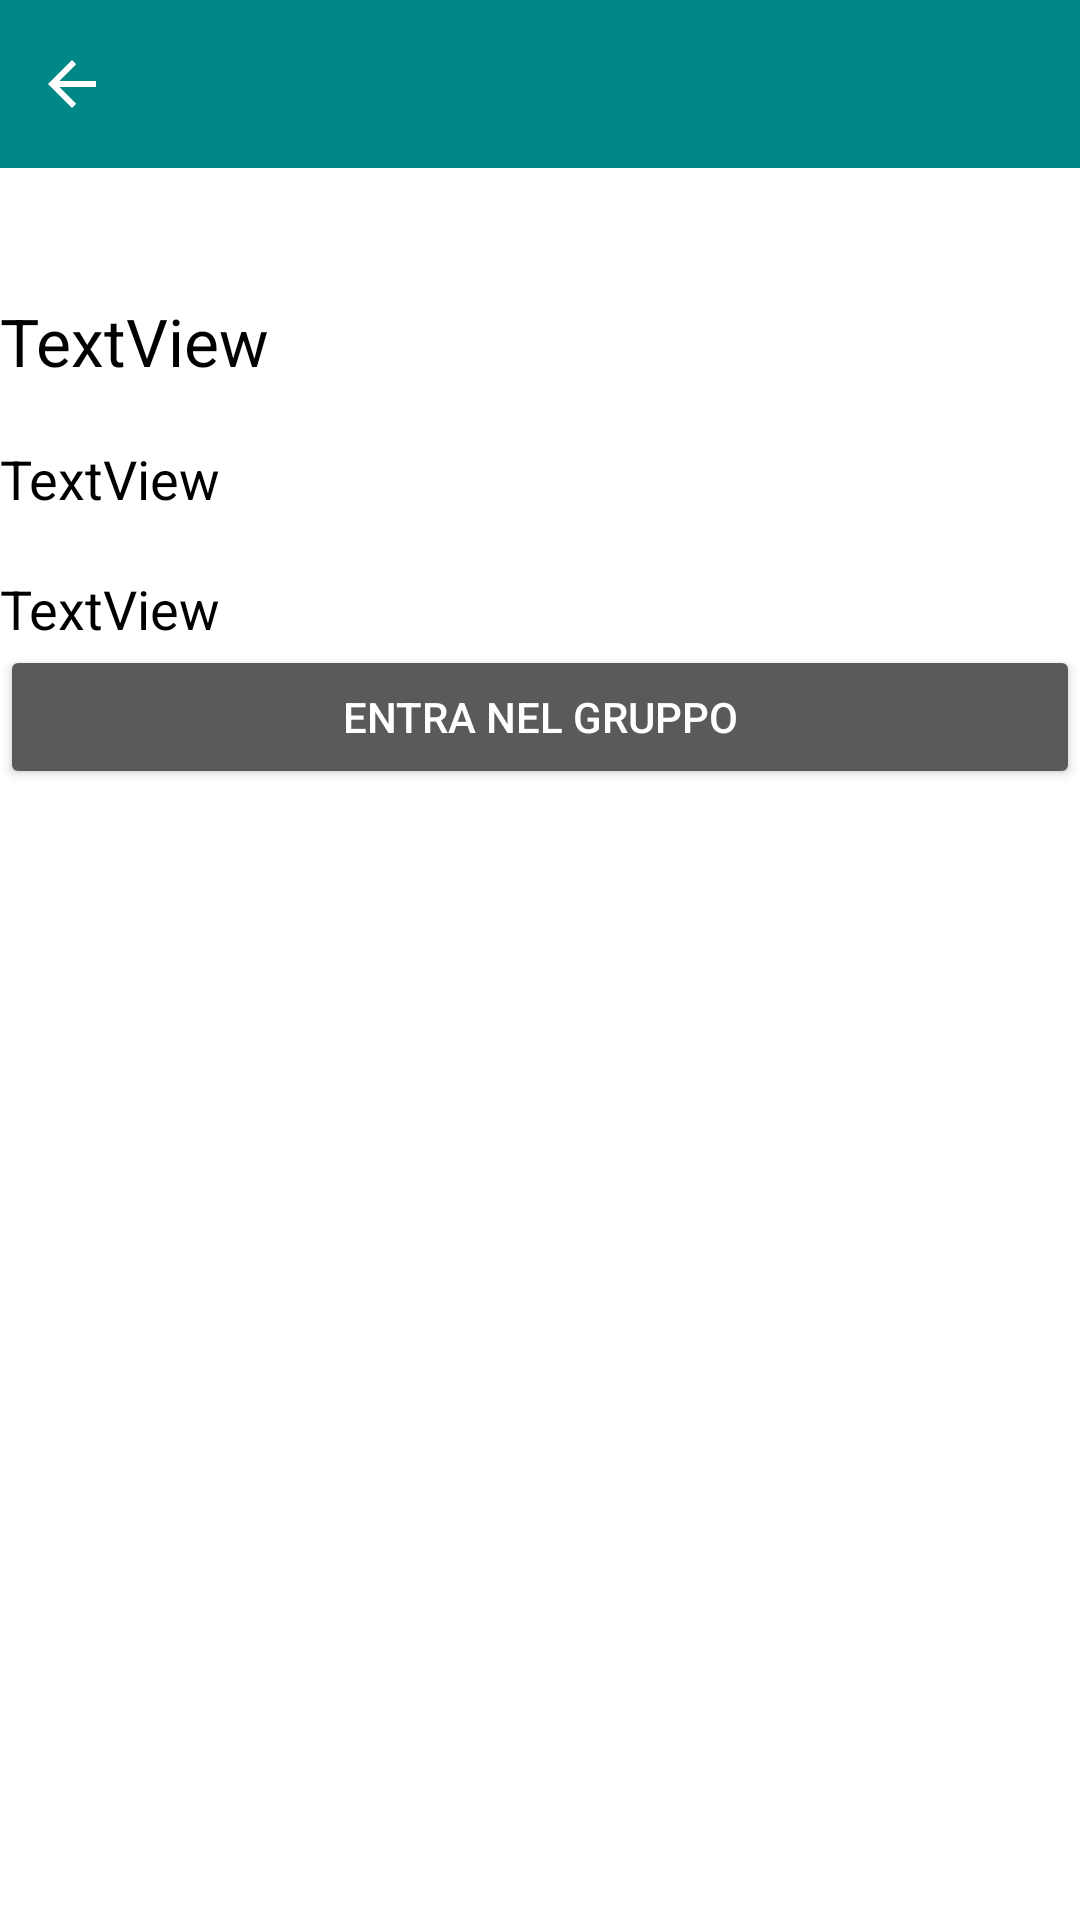

Icons on this 1080x1920 Android screen, each with its box as bbox=(x1, y1, x2, y2):
Back: bbox=(48, 60, 96, 108)
